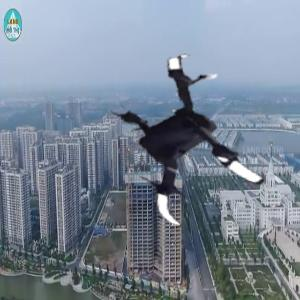drone: (89, 41, 279, 231)
